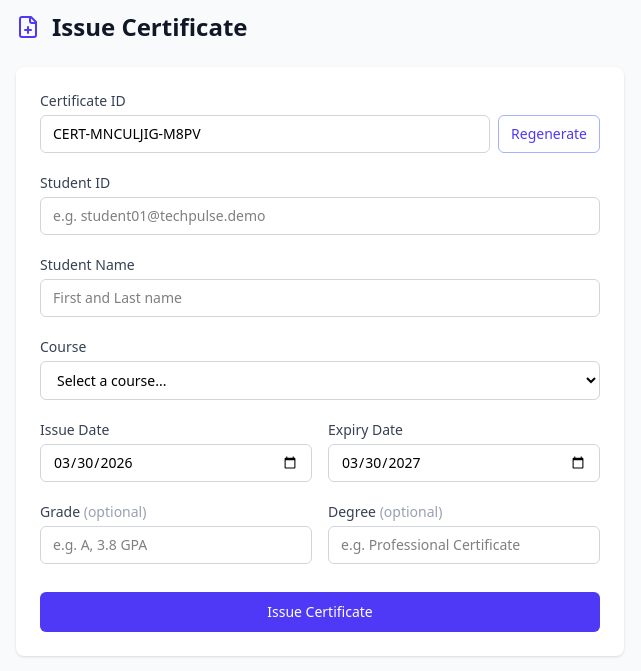
IssueCertificate › shows success message after submission
This screenshot has width=641, height=671.
Step 1. Type "STU-001" into the field labelled "Student ID" → (320, 216), box x1=40 y1=197 x2=600 y2=235
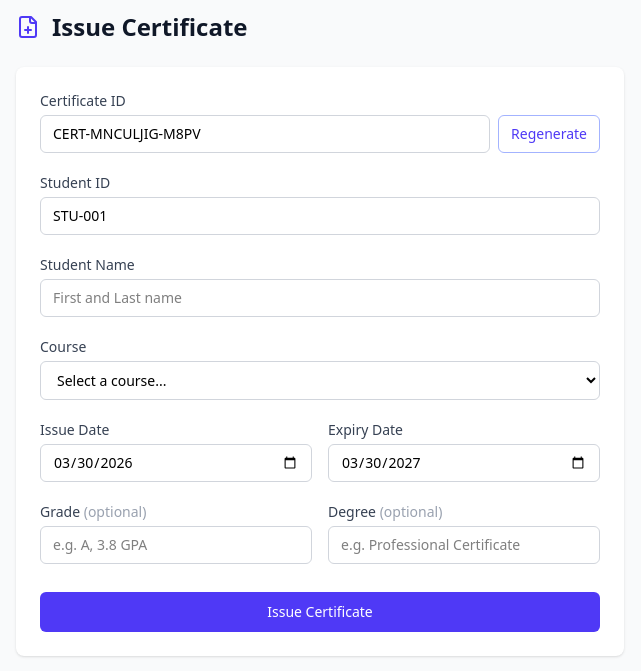
Step 2. Type "Alice Johnson" into the field labelled "Student Name" → (320, 298), box x1=40 y1=279 x2=600 y2=317
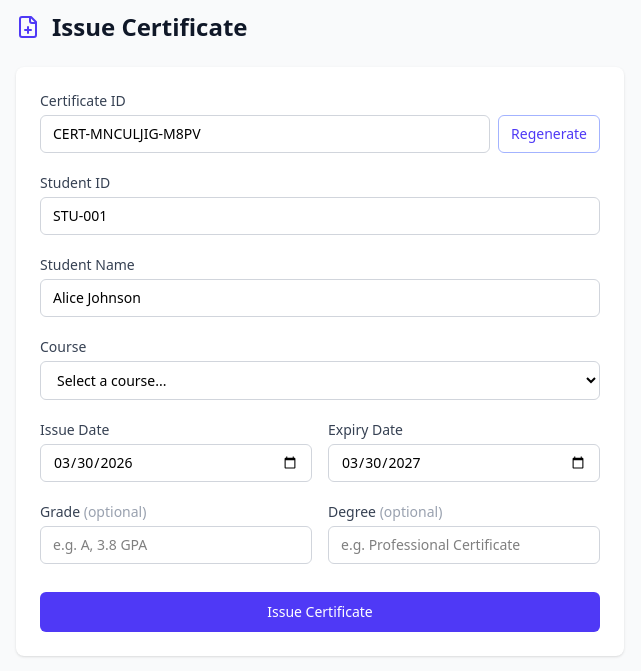
Step 3. Select "Full-Stack Web Dev" in the dropdown labelled "Course" → (320, 380), box x1=40 y1=361 x2=600 y2=400
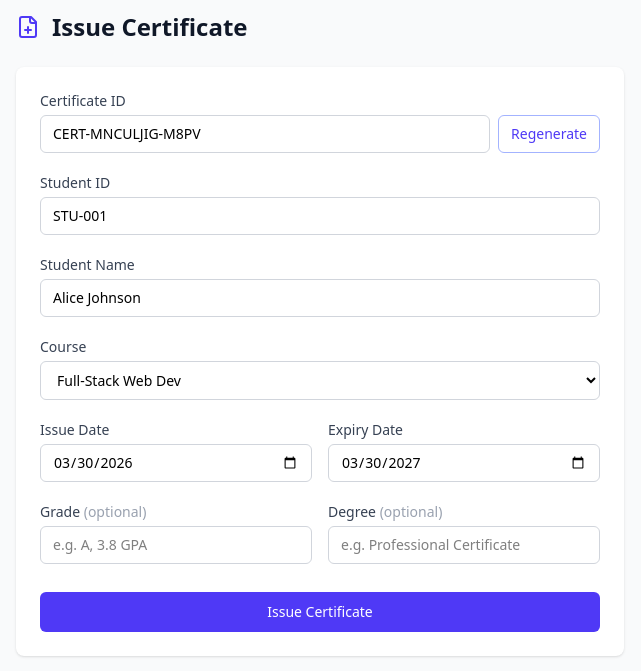
Step 4. Click the button "Issue Certificate" → (320, 612), box x1=40 y1=592 x2=600 y2=632
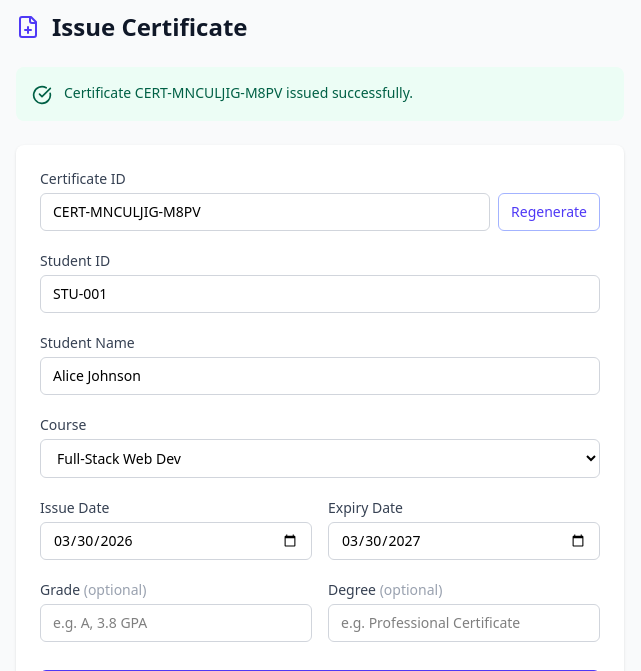
Expected: the text "issued successfully" is shown, x1=64 y1=83 x2=413 y2=102
